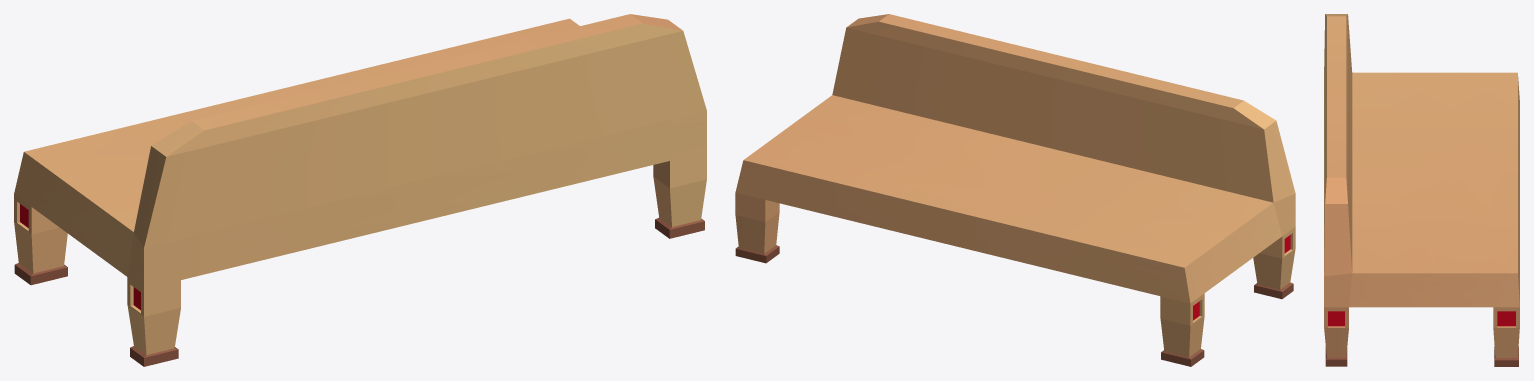
The model's file is Prop_Bench_Pine.fbx.
3 renders of one model, left to right at view 1: azimuth 30°, elevation 25°; view 2: azimuth 150°, elevation 25°; view 3: azimuth 270°, elevation 25°, orthographic. The views are drawn at different scales.
Parts seen in each view (by area): view 1: Cube.039; view 2: Cube.039; view 3: Cube.039.
Boxes of the visible parts, x1,y1,x2,y2 form: Cube.039: [14, 14, 706, 366]; Cube.039: [735, 14, 1295, 366]; Cube.039: [1324, 14, 1519, 366].
Size of the model in its own units: 134 by 50.23 by 53.52.
